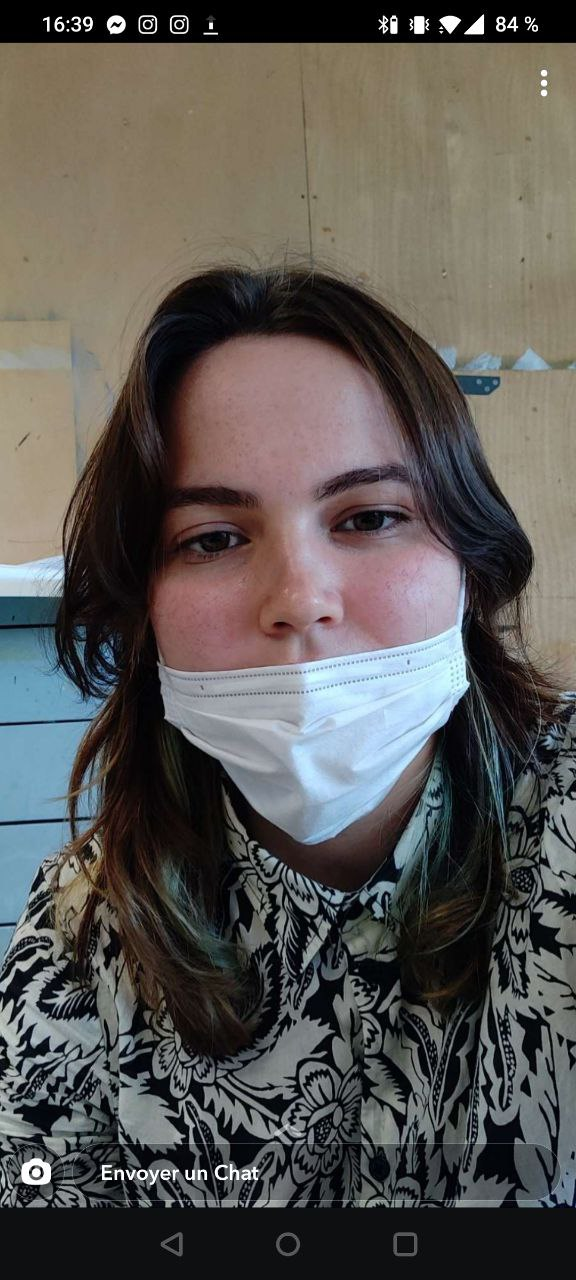with_incorrect_mask: (116, 269, 508, 821)
